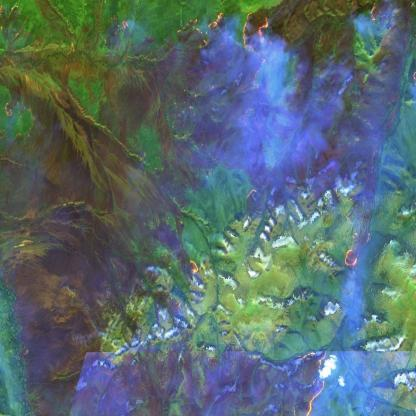fire: (172, 6, 277, 72), (291, 348, 329, 416), (334, 234, 364, 276), (185, 253, 204, 279)
